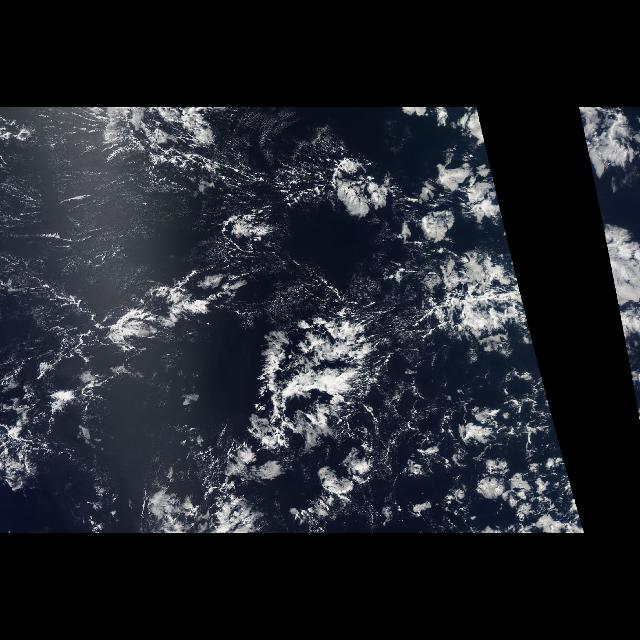Fish: (5, 229, 539, 533), (72, 109, 282, 218)
Gravel: (319, 334, 585, 534), (622, 334, 640, 420)
Sugar: (0, 110, 174, 358), (352, 347, 478, 478)
